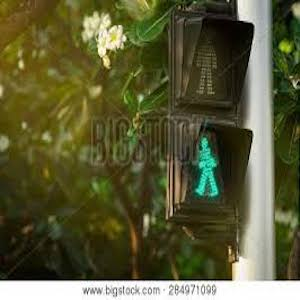green: (186, 120, 234, 196)
